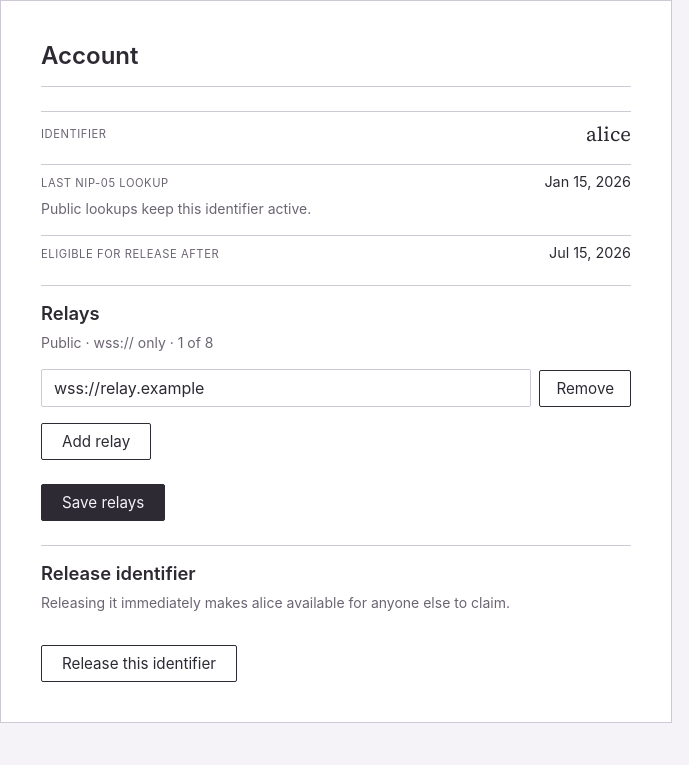
account relay editor › associates indexed relay errors with the invalid relay input
The width and height of the screenshot is (689, 765).
Click the button "Save relays" at (103, 502), box [41, 484, 165, 521]
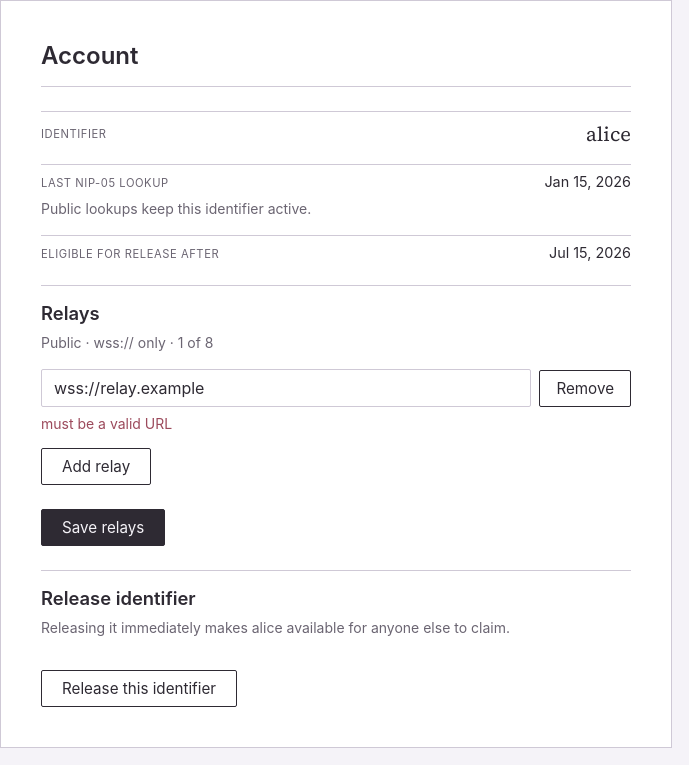
expect the message with id "relay-0-error" reads "must be a valid URL": met, box [41, 415, 172, 432]
